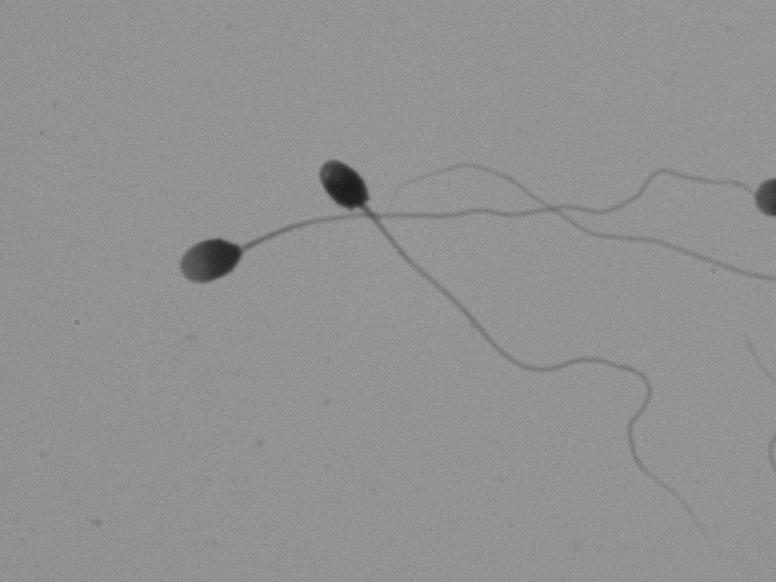Abnormal: (309, 130, 733, 557)
Normal: (121, 209, 338, 319)
